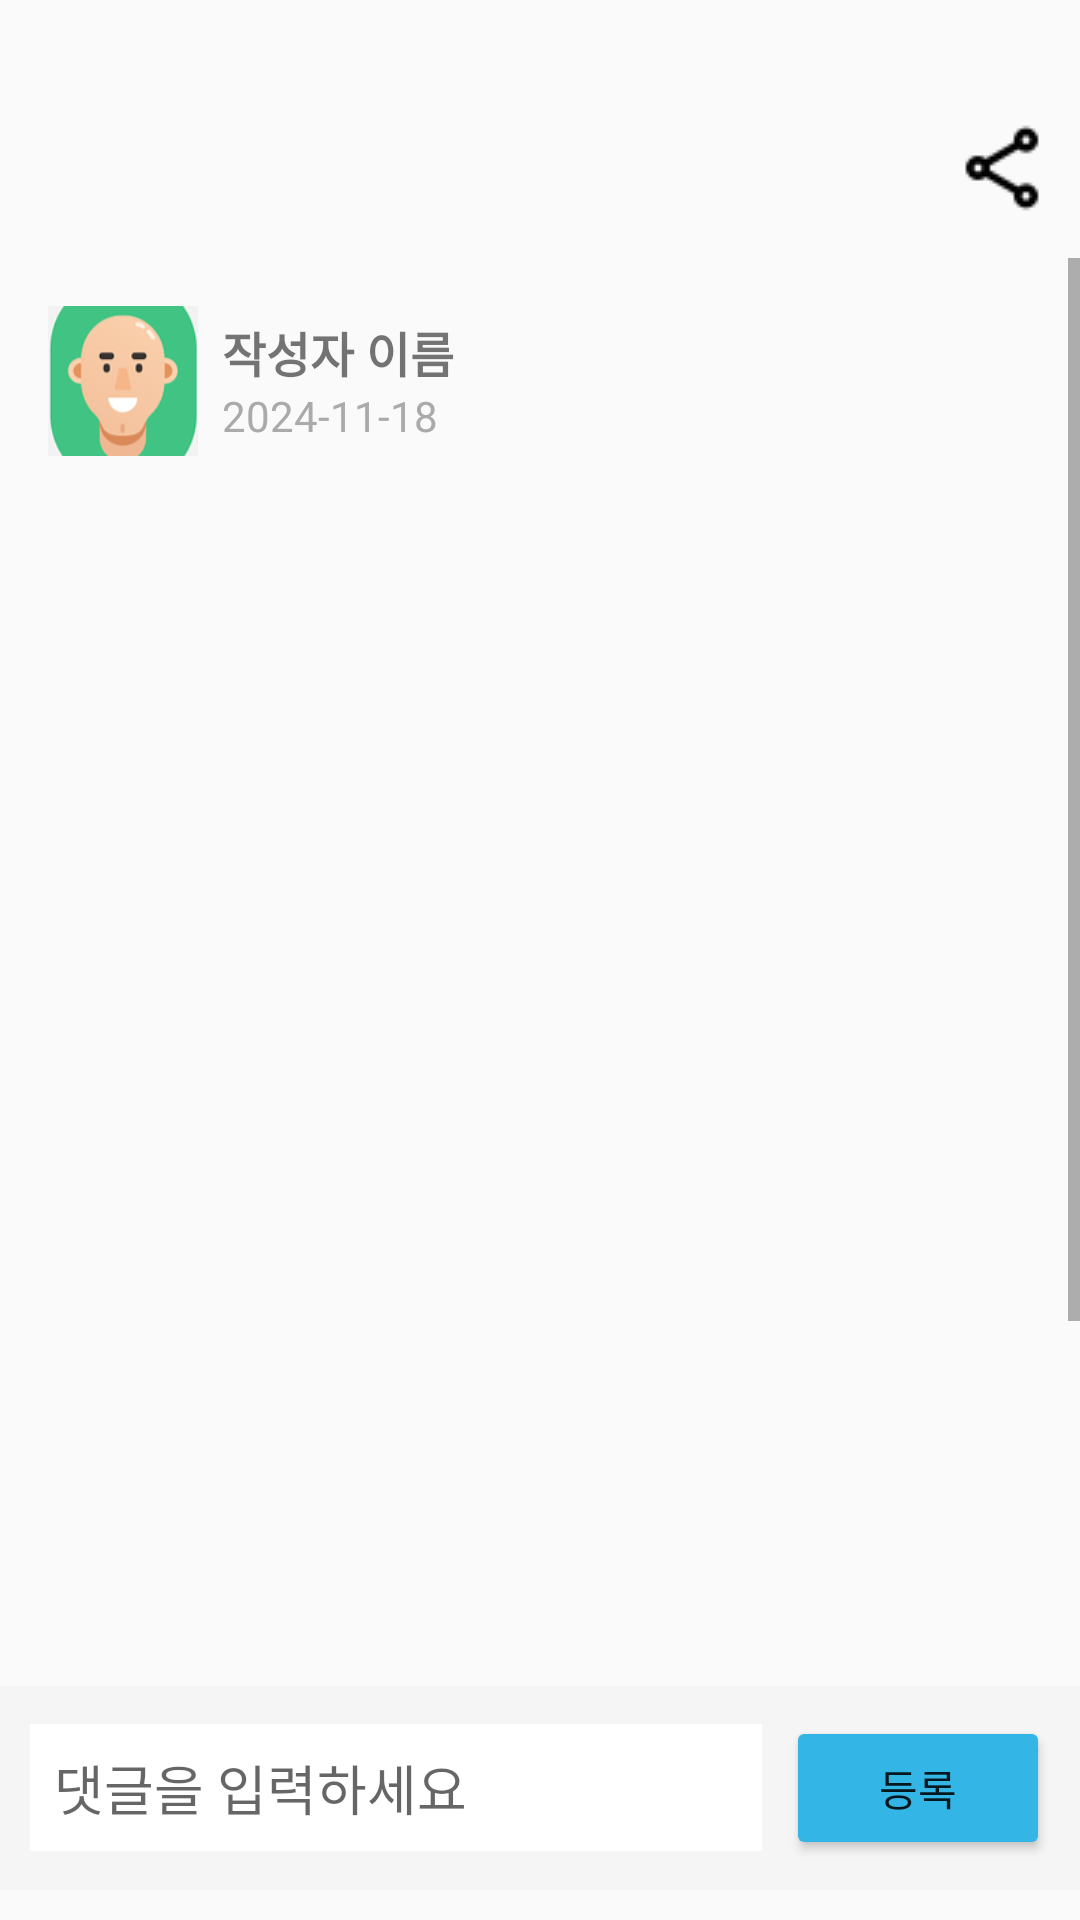

Icon click points for this 1080*1920 phone screenshot, format point (x, y):
공유 버튼: point (1002, 168)
프로필 사진: point (123, 381)
